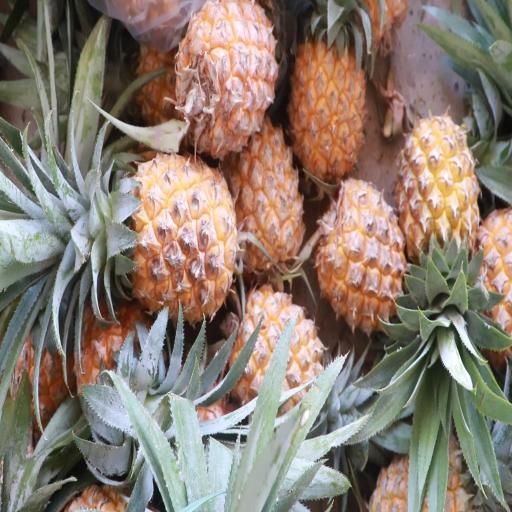Pineapple - v8 v1: (80, 149, 250, 327), (233, 282, 345, 440), (172, 4, 280, 166), (393, 114, 481, 310), (311, 178, 413, 347), (287, 8, 370, 192), (227, 104, 307, 280)
